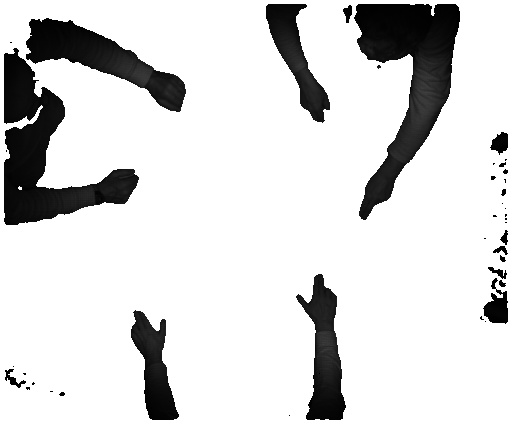fist: (151, 72, 191, 111), (105, 168, 143, 207)
hand: (296, 272, 343, 327), (352, 170, 396, 223), (128, 304, 167, 361), (296, 82, 335, 127)
